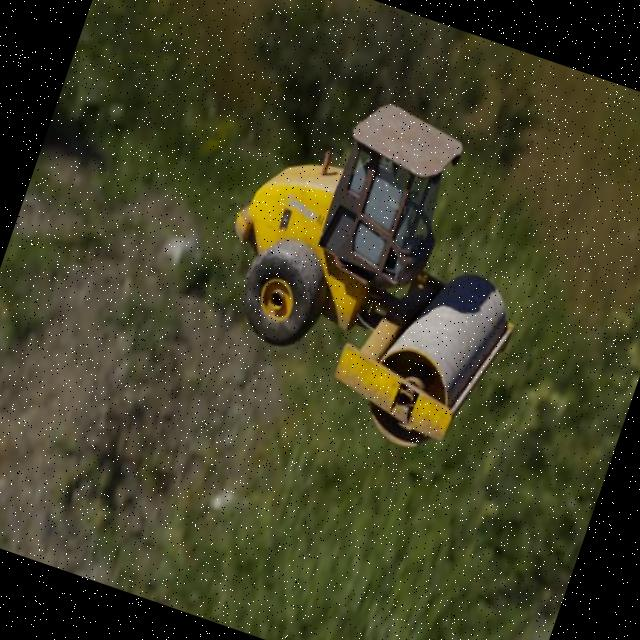Roller: (182, 68, 570, 468)
